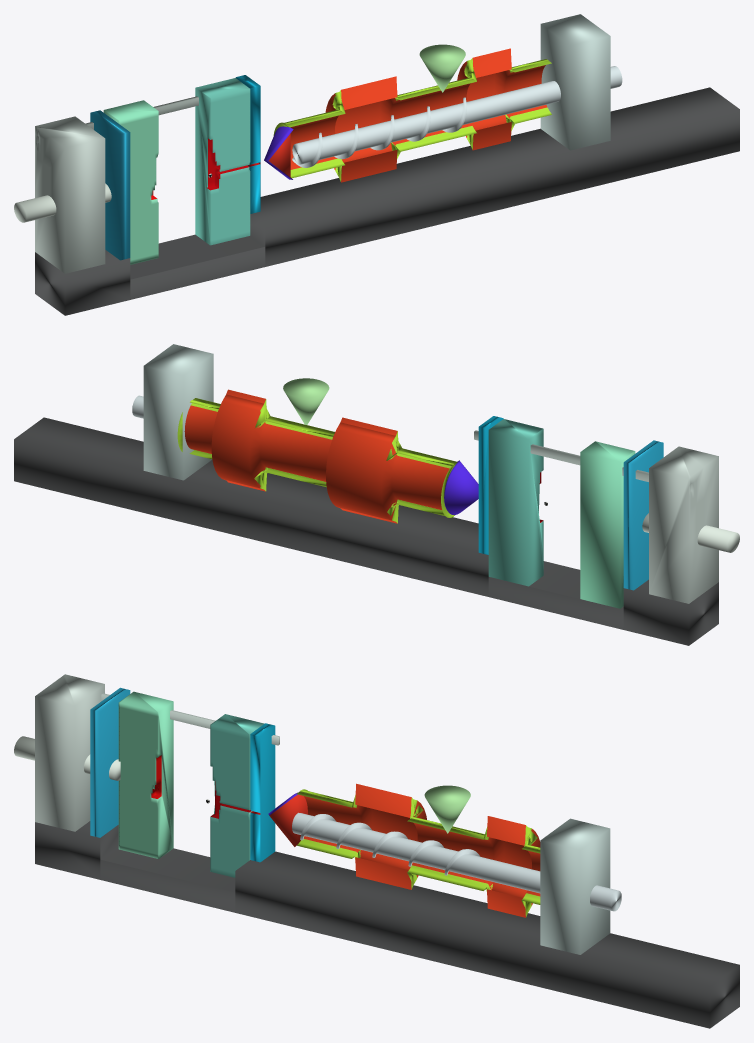
Rendered from injection.glb.
The picture shows the model from 3 angles, top to bottom: view 1: azimuth 30°, elevation 25°; view 2: azimuth 150°, elevation 25°; view 3: azimuth 330°, elevation 25°; orthographic projection.
Parts seen in each view (by area): view 1: Cube, Cylinder.001, Cube.001, Cube.004, Cube.006, Cylinder.002, Cube.005, Cube.002, Cube.003, Cone.001, Cone, Cylinder; view 2: Cube, Cylinder.001, Cube.001, Cube.004, Cube.005, Cube.006, Cube.002, Cube.003, Cone.001, Cone, Cylinder; view 3: Cube, Cylinder.001, Cube.001, Cube.005, Cube.006, Cylinder.002, Cube.004, Cube.002, Cube.003, Cone.001, Cone, Cylinder.
Part boxes in pixels (left/top/right/bottom): Cube: left=35, top=87, right=739, bottom=315; Cylinder.001: left=273, top=48, right=551, bottom=182; Cube.001: left=35, top=96, right=198, bottom=273; Cube.004: left=195, top=78, right=250, bottom=245; Cube.006: left=540, top=14, right=610, bottom=150; Cylinder.002: left=292, top=66, right=622, bottom=167; Cube.005: left=103, top=100, right=158, bottom=264; Cube.002: left=90, top=110, right=130, bottom=260; Cube.003: left=235, top=75, right=260, bottom=213; Cone.001: left=419, top=44, right=465, bottom=92; Cone: left=264, top=126, right=293, bottom=179; Cylinder: left=14, top=183, right=111, bottom=222; Cube: left=14, top=417, right=718, bottom=645; Cylinder.001: left=177, top=389, right=457, bottom=523; Cube.001: left=474, top=430, right=718, bottom=603; Cube.004: left=488, top=419, right=543, bottom=586; Cube.005: left=580, top=441, right=635, bottom=608; Cube.006: left=143, top=344, right=213, bottom=480; Cube.002: left=623, top=440, right=663, bottom=590; Cube.003: left=478, top=416, right=503, bottom=554; Cone.001: left=283, top=378, right=329, bottom=424; Cone: left=444, top=460, right=478, bottom=514; Cylinder: left=642, top=513, right=739, bottom=552; Cube: left=35, top=821, right=739, bottom=1028; Cylinder.001: left=296, top=783, right=540, bottom=917; Cube.001: left=35, top=674, right=279, bottom=831; Cube.005: left=118, top=691, right=173, bottom=858; Cube.006: left=540, top=818, right=610, bottom=954; Cylinder.002: left=292, top=812, right=621, bottom=911; Cube.004: left=210, top=714, right=264, bottom=877; Cube.002: left=90, top=687, right=130, bottom=837; Cube.003: left=250, top=723, right=275, bottom=862; Cone.001: left=424, top=785, right=470, bottom=833; Cone: left=268, top=792, right=307, bottom=846; Cylinder: left=14, top=736, right=120, bottom=780.
Size of the model in its own units: 35.15 by 8 by 3.37.
